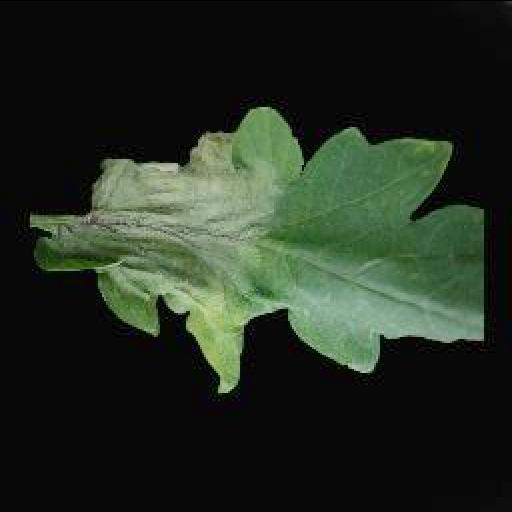disease_tomato: (35, 102, 485, 390)
